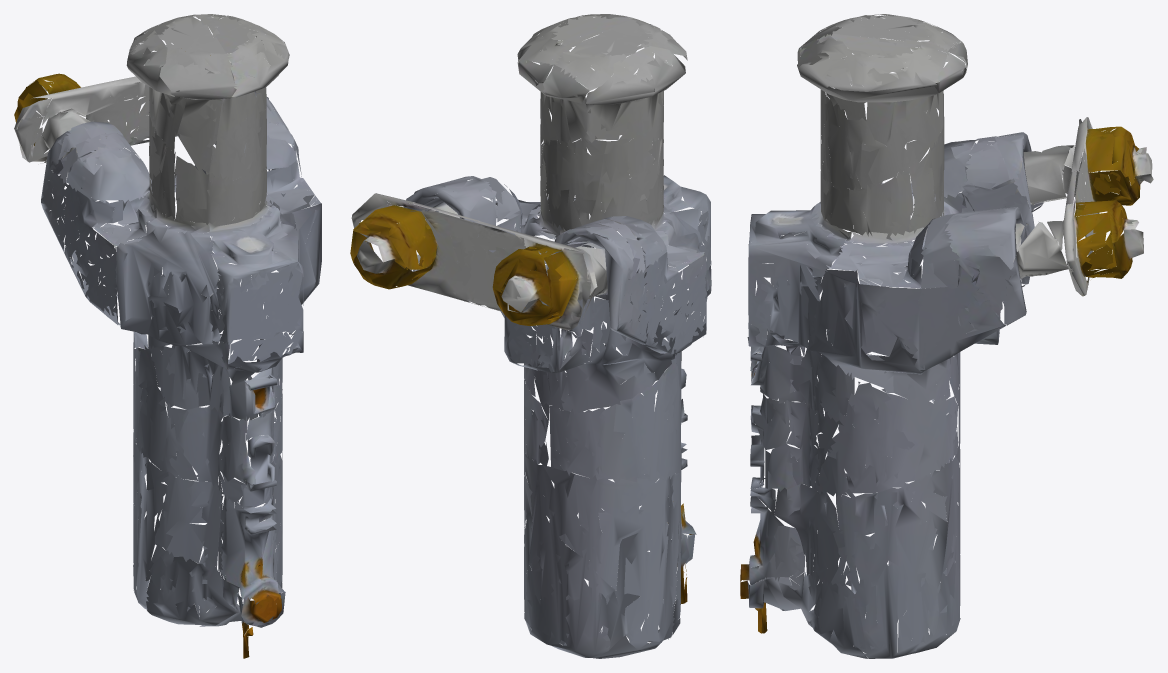
Rendered from 减速顶.glb.
The picture shows the model from 3 angles, left to right: view 1: azimuth 30°, elevation 25°; view 2: azimuth 150°, elevation 25°; view 3: azimuth 270°, elevation 25°; orthographic projection. The views are drawn at different scales.
Visible parts, largest first — view 1: tripo_node_a2f697e0-de05-47e4-8eb6-e67f4d148277; view 2: tripo_node_a2f697e0-de05-47e4-8eb6-e67f4d148277; view 3: tripo_node_a2f697e0-de05-47e4-8eb6-e67f4d148277.
Boxes of the visible parts, x1,y1,x2,y2 form: tripo_node_a2f697e0-de05-47e4-8eb6-e67f4d148277: [14, 14, 321, 658]; tripo_node_a2f697e0-de05-47e4-8eb6-e67f4d148277: [350, 14, 711, 658]; tripo_node_a2f697e0-de05-47e4-8eb6-e67f4d148277: [740, 14, 1153, 658].
Size of the model in its own units: 0.4403 by 1 by 0.6179.
Materials: 1 (1 with a texture image).
